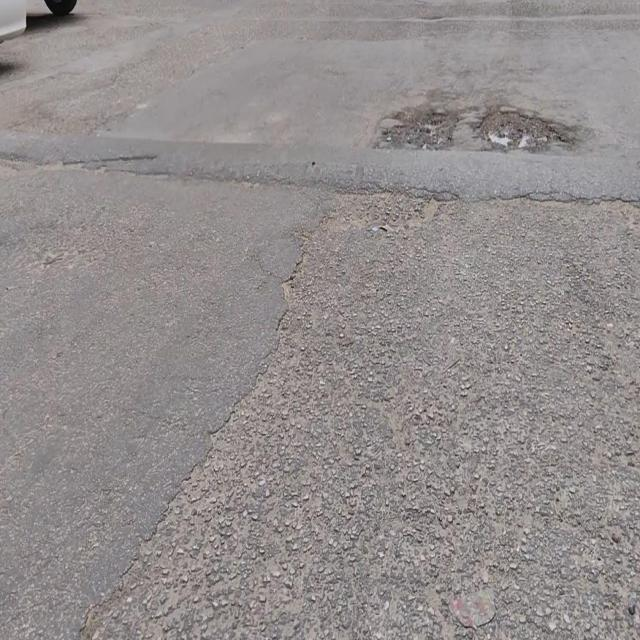Potholes: (476, 104, 564, 159), (382, 112, 456, 146)
